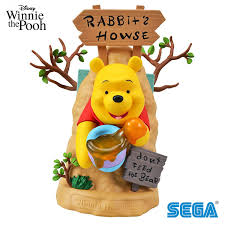Winnie: (82, 57, 155, 139)
